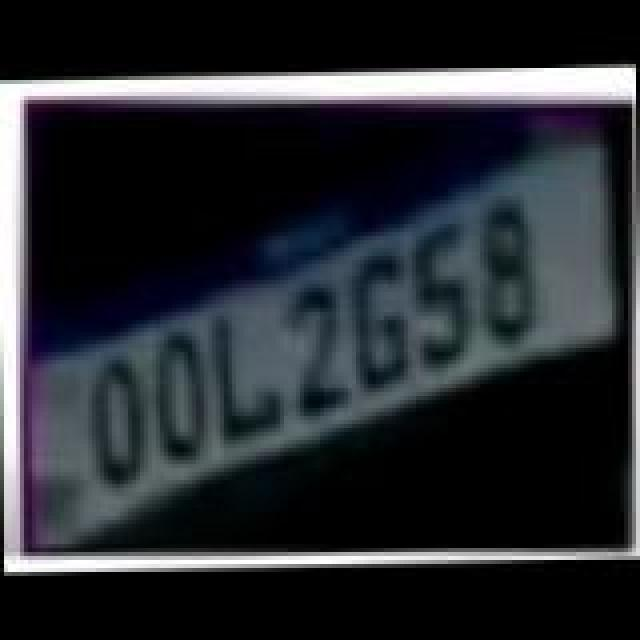1: (274, 280, 358, 420)
5: (404, 220, 484, 372)
8: (472, 196, 552, 344)
G: (340, 248, 420, 392)
L: (198, 310, 290, 442)
O: (140, 326, 224, 466), (76, 356, 160, 492)
